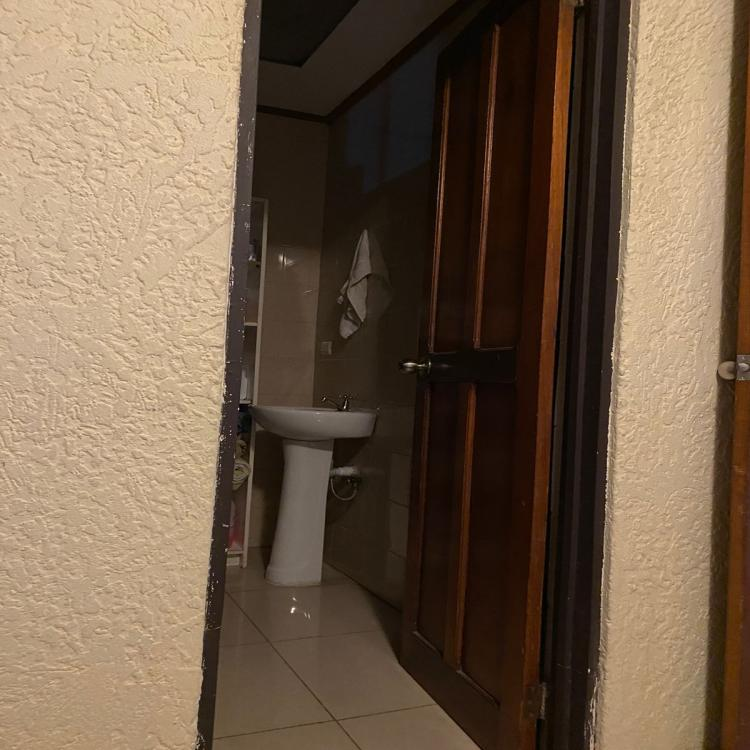OpenDoor: (195, 2, 583, 750)
